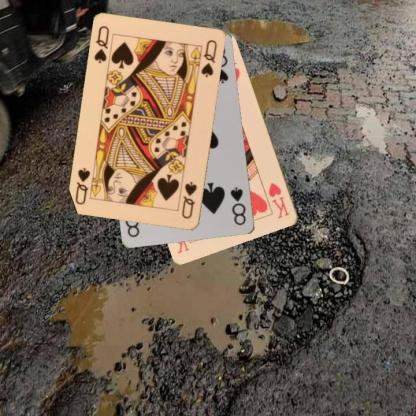8s: (228, 184, 247, 227)
Kh: (266, 180, 290, 220)
Qs: (179, 179, 199, 221), (91, 23, 111, 65)
